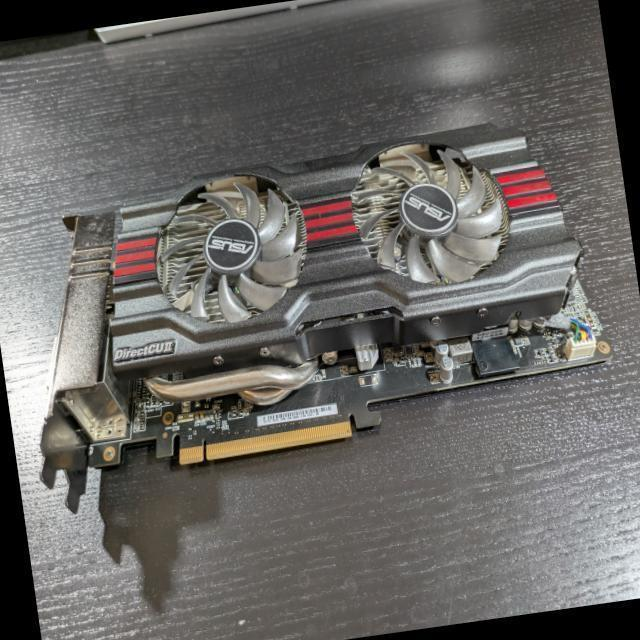GPU: (26, 130, 614, 473)
